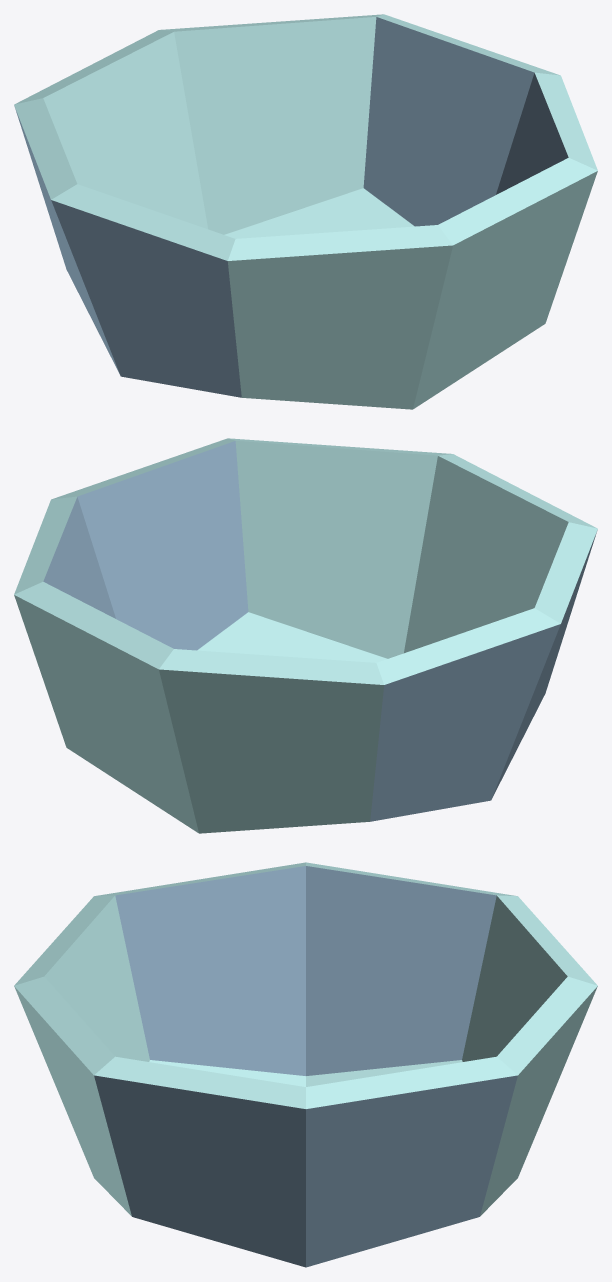
The model's file is Eating Bowl.fbx.
The picture shows the model from 3 angles, top to bottom: view 1: azimuth 30°, elevation 25°; view 2: azimuth 150°, elevation 25°; view 3: azimuth 270°, elevation 25°; orthographic projection.
Parts seen in each view (by area): view 1: Eating Bowl; view 2: Eating Bowl; view 3: Eating Bowl.
Part boxes in pixels (box(x1,y1,x2,y2)): Eating Bowl: box(14, 14, 597, 409); Eating Bowl: box(14, 438, 597, 833); Eating Bowl: box(14, 862, 597, 1267).
Bounding box in the file's own units: 48.17 × 21.38 × 48.17.
